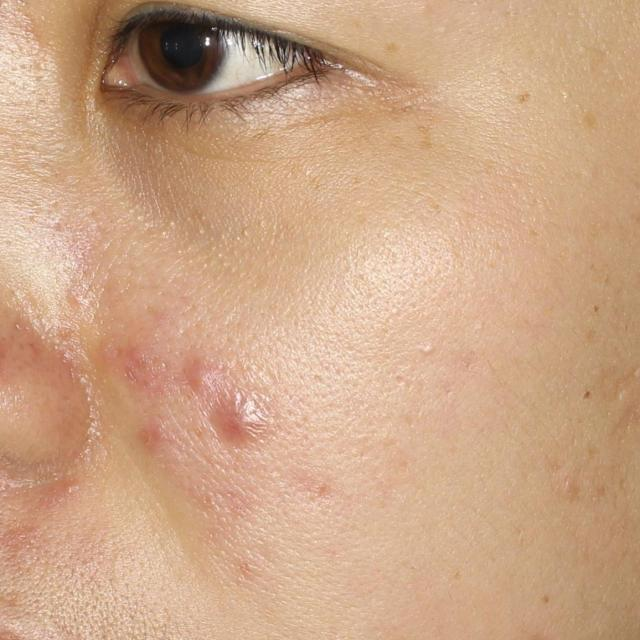blackhead: (582, 390, 590, 398), (592, 305, 598, 313)
nodule: (209, 393, 273, 449)
